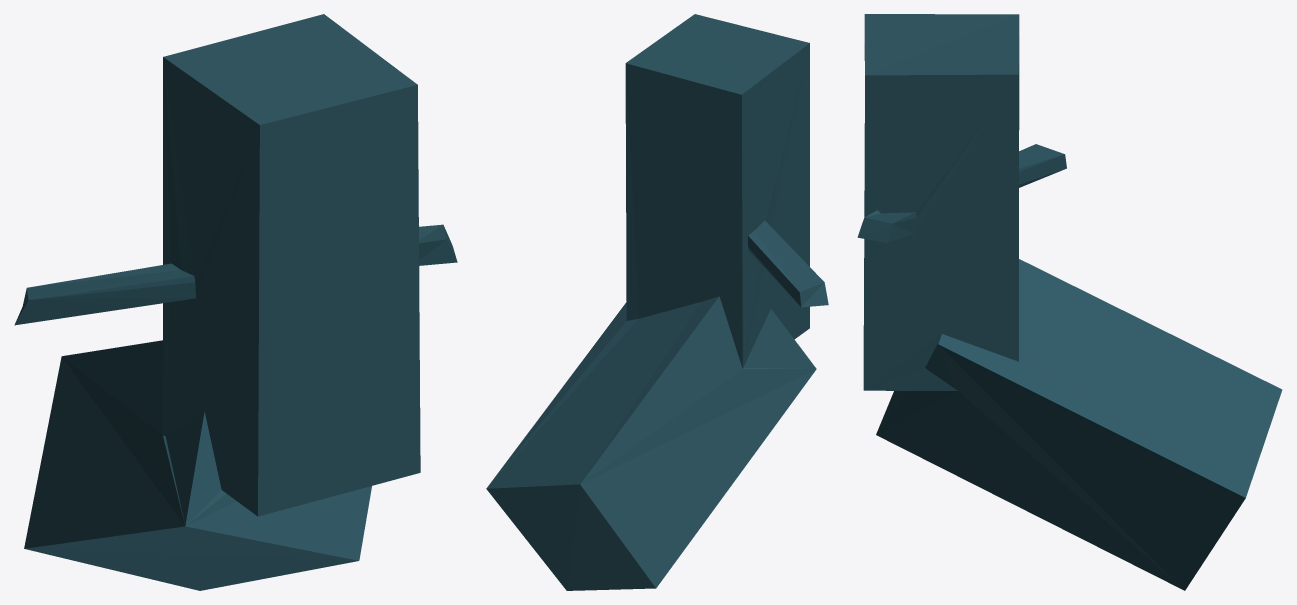
The picture shows the model from 3 angles, left to right: view 1: azimuth 30°, elevation 25°; view 2: azimuth 150°, elevation 25°; view 3: azimuth 270°, elevation 25°; orthographic projection. The views are drawn at different scales.
Parts seen in each view (by area): view 1: 742_Cube.2980; view 2: 742_Cube.2980; view 3: 742_Cube.2980.
Part boxes in pixels (left/top/right/bottom): 742_Cube.2980: left=14, top=14, right=457, bottom=590; 742_Cube.2980: left=486, top=14, right=828, bottom=590; 742_Cube.2980: left=857, top=14, right=1282, bottom=590.
Size of the model in its own units: 11.18 by 19.92 by 14.62.
